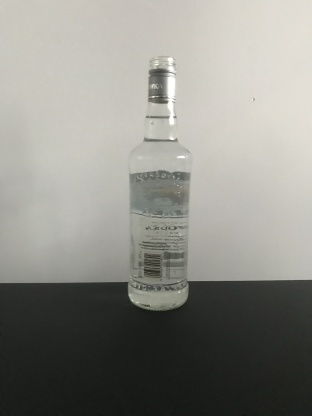nakretka: (146, 52, 177, 104)
